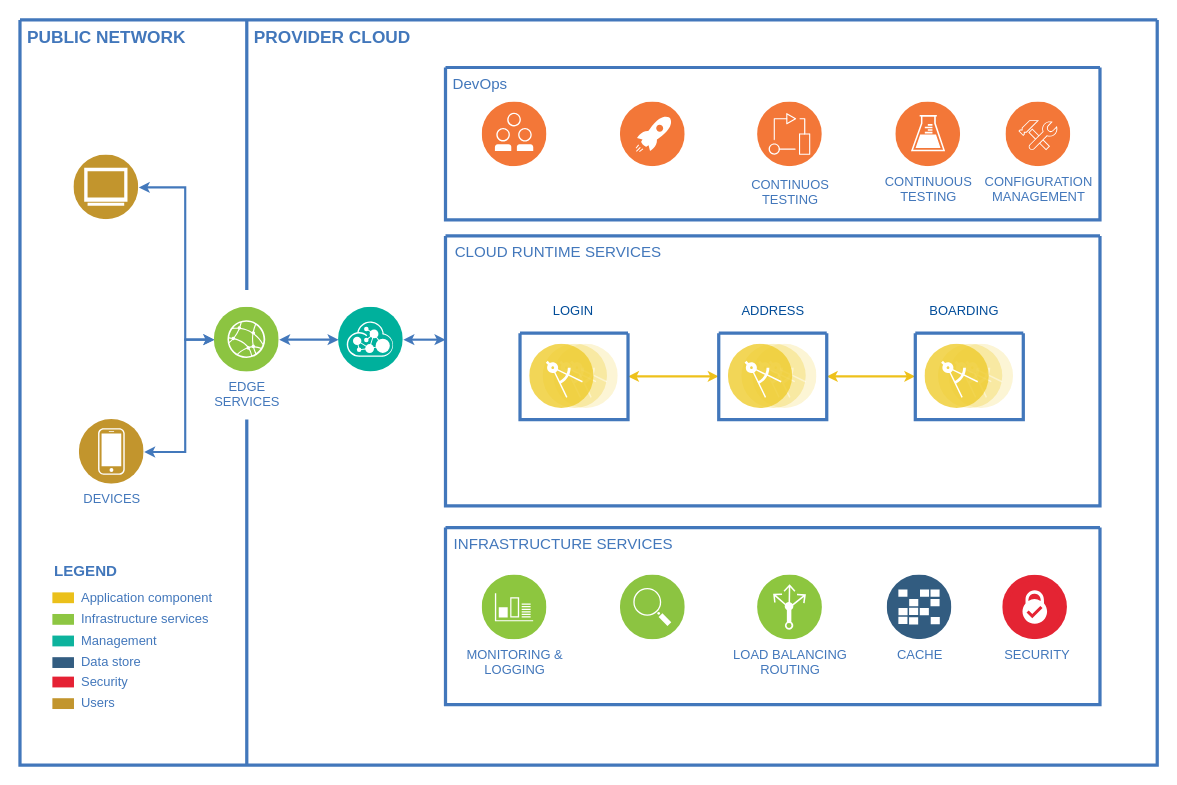
This 1177x785 diagram has some shape labels left out. Each missing label, with the centre of its shape:
"BROWSER" goes at (x=105, y=186).
"CLOUD" goes at (x=370, y=339).
"COLLABORATIVE DEVELOPMENT" goes at (x=514, y=134).
"CONTINUOUS DEPLOY" goes at (x=652, y=134).
"SERVICE REGISTRY / DISCOVERY" goes at (x=652, y=607).
